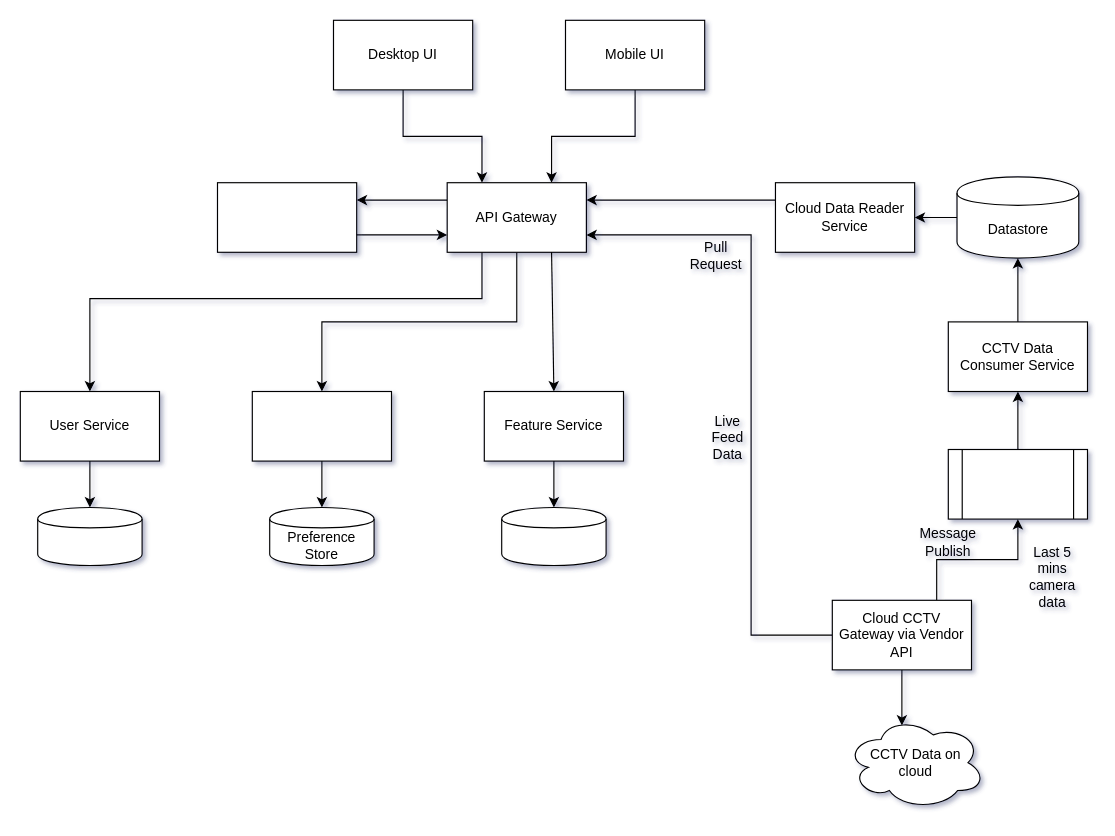
This 1115x836 diagram has some shape labels left out. The centre of each missing label's shape, as x and y in pixels:
"Auth Provider" belongs at pixel 286 217.
"Feature Store" belongs at pixel 553 536.
"Persisted Message Steam" belongs at pixel 1017 483.
"Preference Service" belongs at pixel 321 425.
"User Data" belongs at pixel 89 536.
